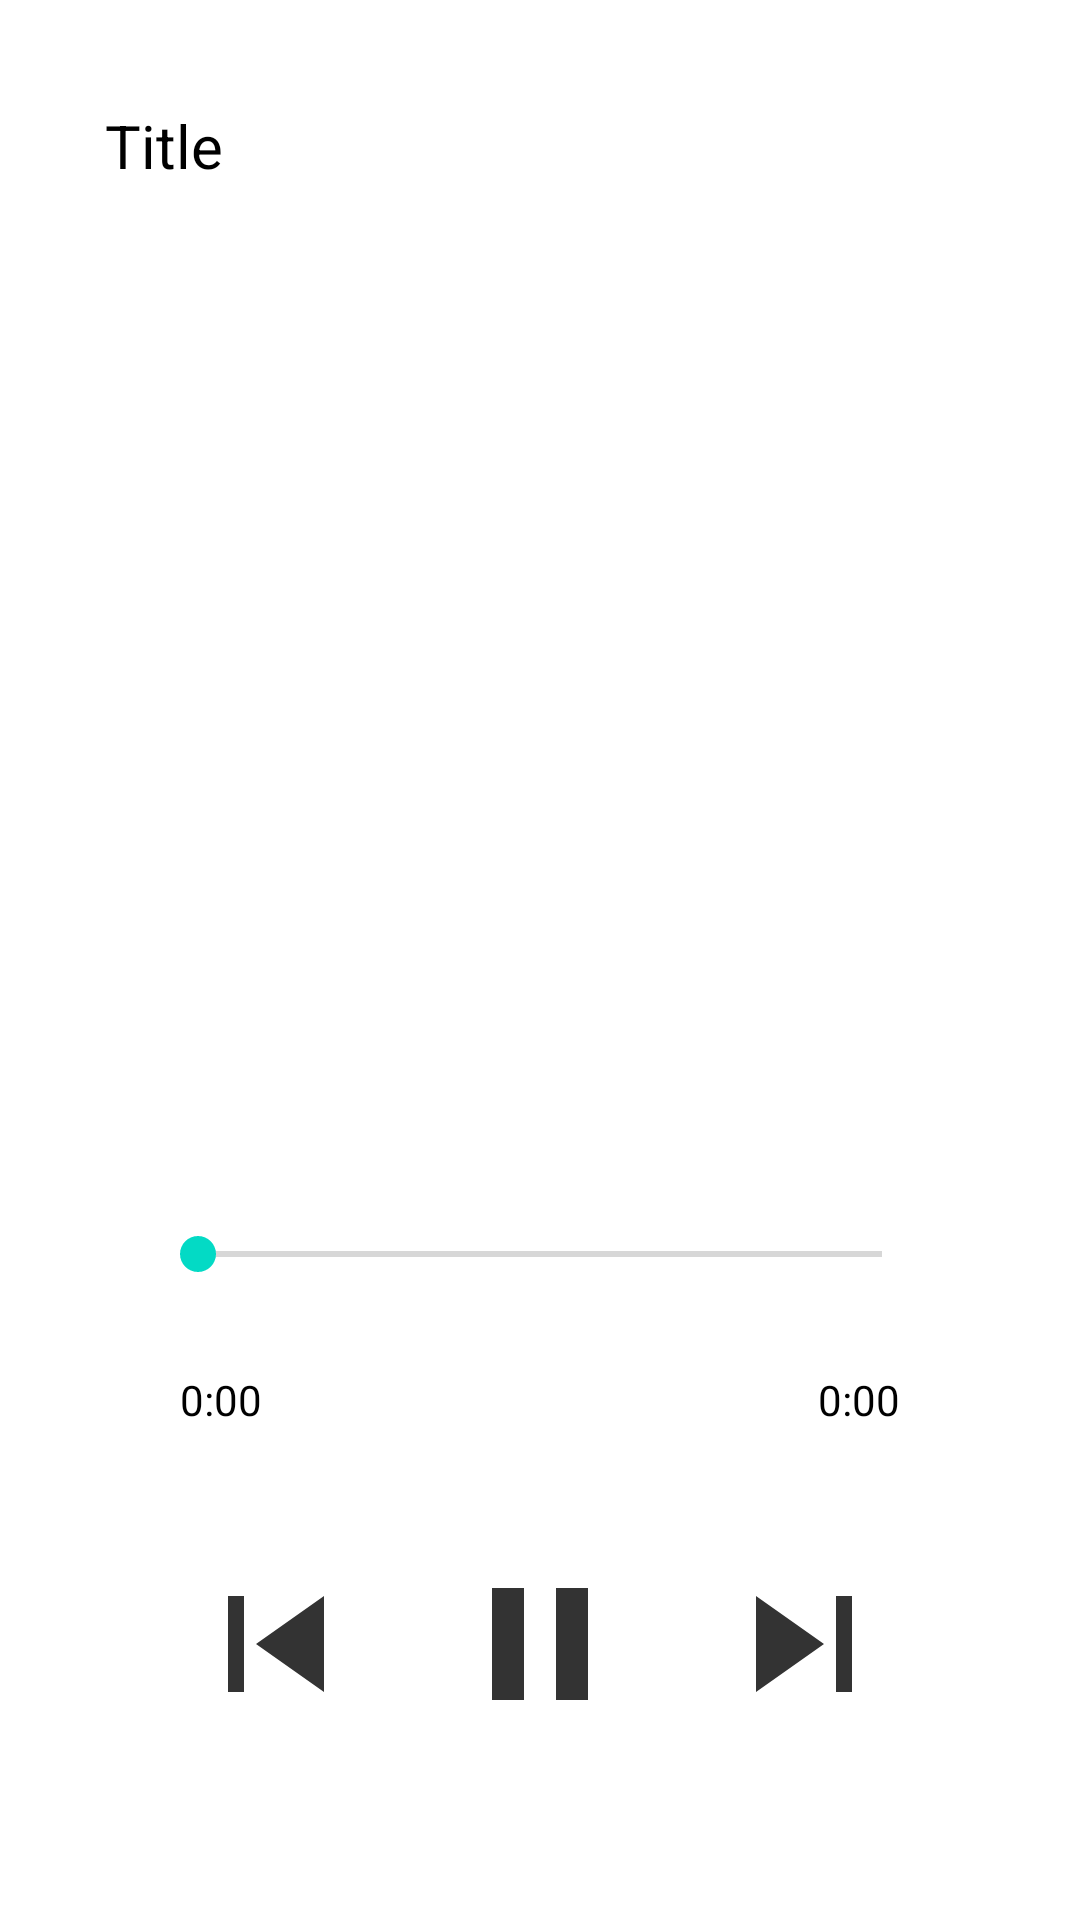

Icon click points for this 1080px×1920px phone screenshot, format point (x, y):
next: point (804, 1644)
pause: point (540, 1644)
previous: point (276, 1644)
